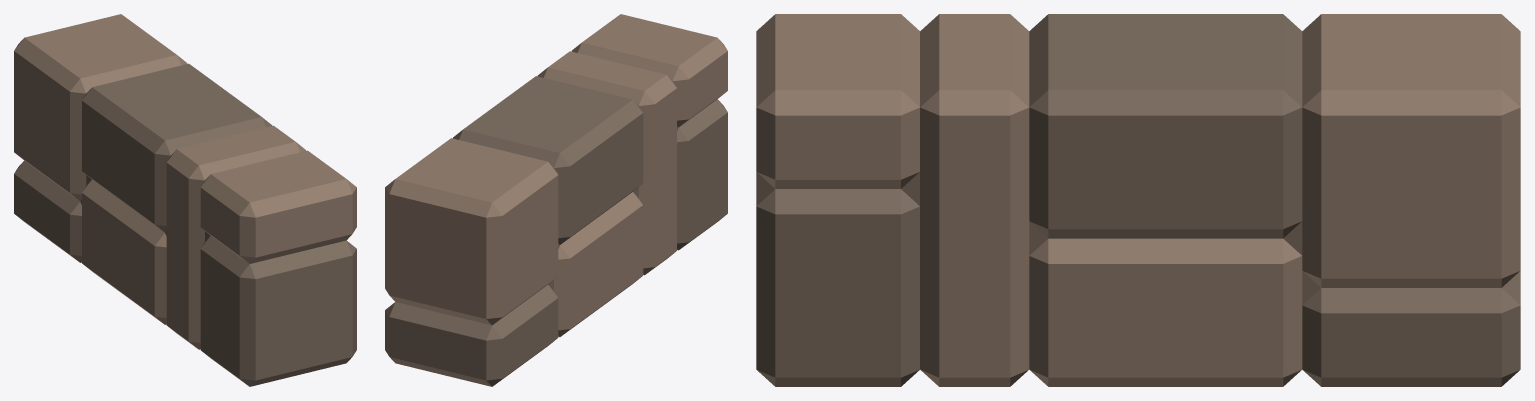
The model's file is Stone_Curb_1.obj.
The picture shows the model from 3 angles, left to right: view 1: azimuth 30°, elevation 25°; view 2: azimuth 150°, elevation 25°; view 3: azimuth 270°, elevation 25°; orthographic projection. The views are drawn at different scales.
Visible parts, largest first — view 1: object1; view 2: object1; view 3: object1.
Part boxes in pixels (x1,y1,x2,y2): object1: (14, 14, 356, 386); object1: (385, 14, 727, 386); object1: (756, 14, 1520, 386).
Size of the model in its own units: 0.2 by 0.3 by 0.7.
